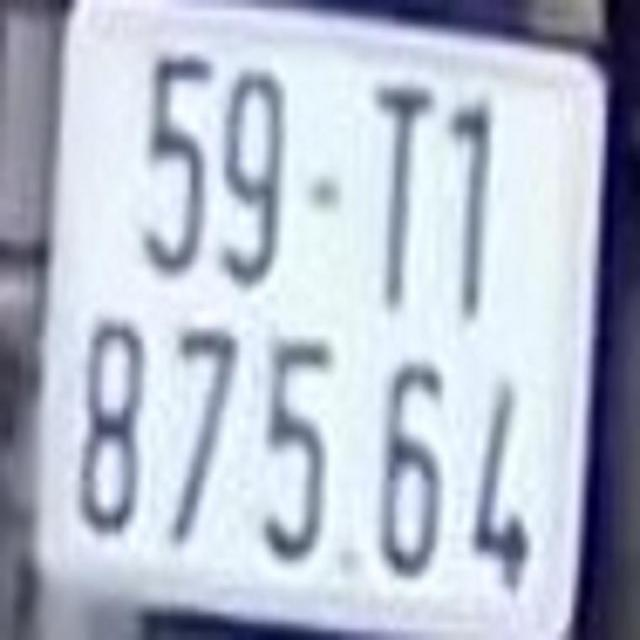1: (449, 93, 491, 314)
4: (476, 379, 530, 586)
5: (268, 329, 327, 562), (148, 50, 206, 273)
6: (382, 356, 437, 572)
7: (174, 323, 236, 536)
8: (86, 316, 144, 535)
9: (225, 63, 282, 284)
T: (372, 81, 432, 313)
